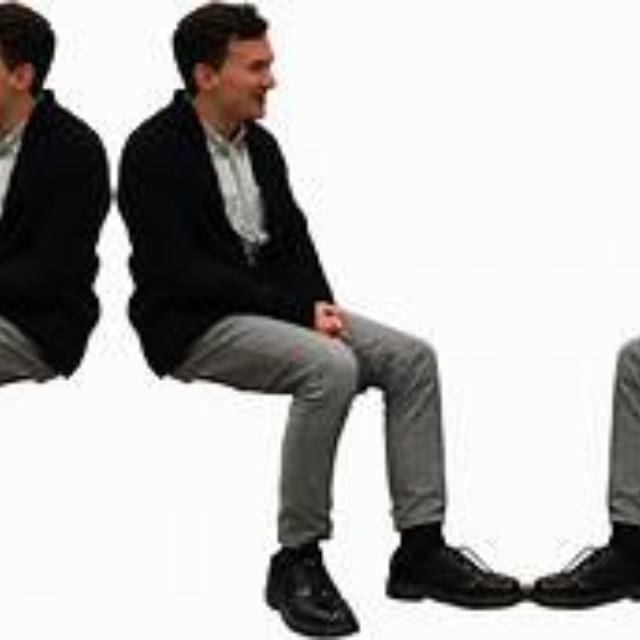person: (116, 0, 526, 640), (526, 0, 640, 640), (0, 0, 110, 640)
